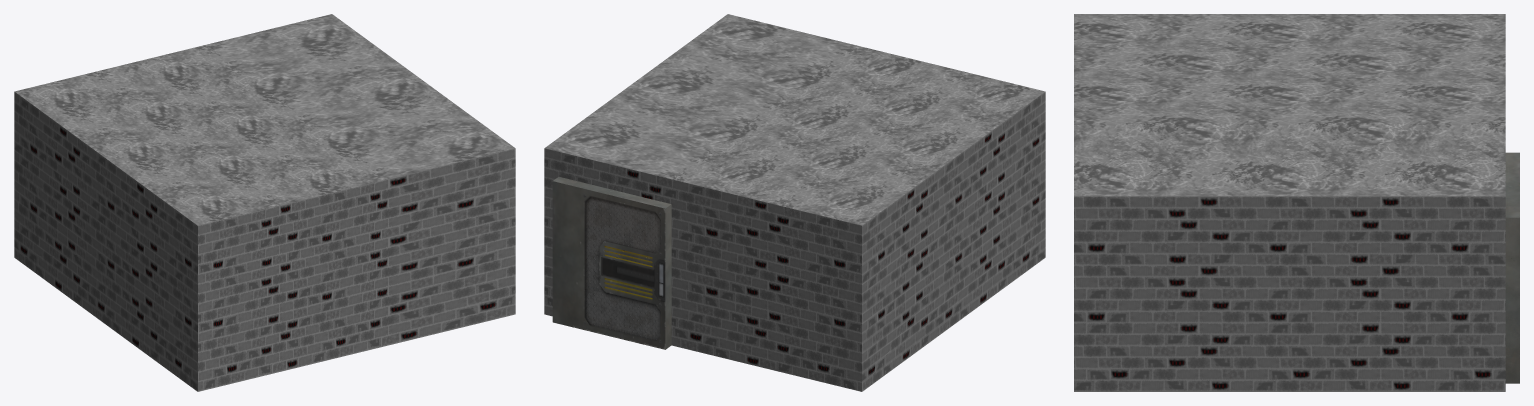
The model's file is IMGE_Project_Room.fbx.
3 views of the same model, side by side, from view 1: azimuth 30°, elevation 25°; view 2: azimuth 150°, elevation 25°; view 3: azimuth 270°, elevation 25° (orthographic). The views are drawn at different scales.
Visible parts, largest first — view 1: Plane; view 2: Plane; view 3: Plane.
Part boxes in pixels (x1=…): Plane: x1=14, y1=14, x2=515, y2=391; Plane: x1=544, y1=14, x2=1045, y2=391; Plane: x1=1074, y1=14, x2=1519, y2=391.
Size of the model in its own units: 1000 by 500 by 1033.
